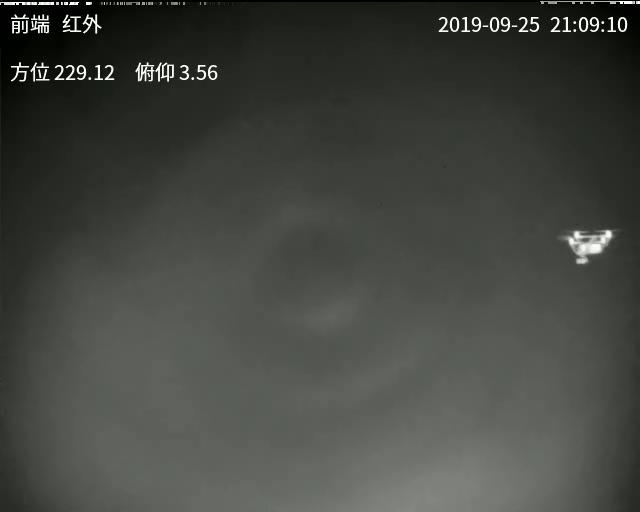uav: (564, 225, 615, 269)
